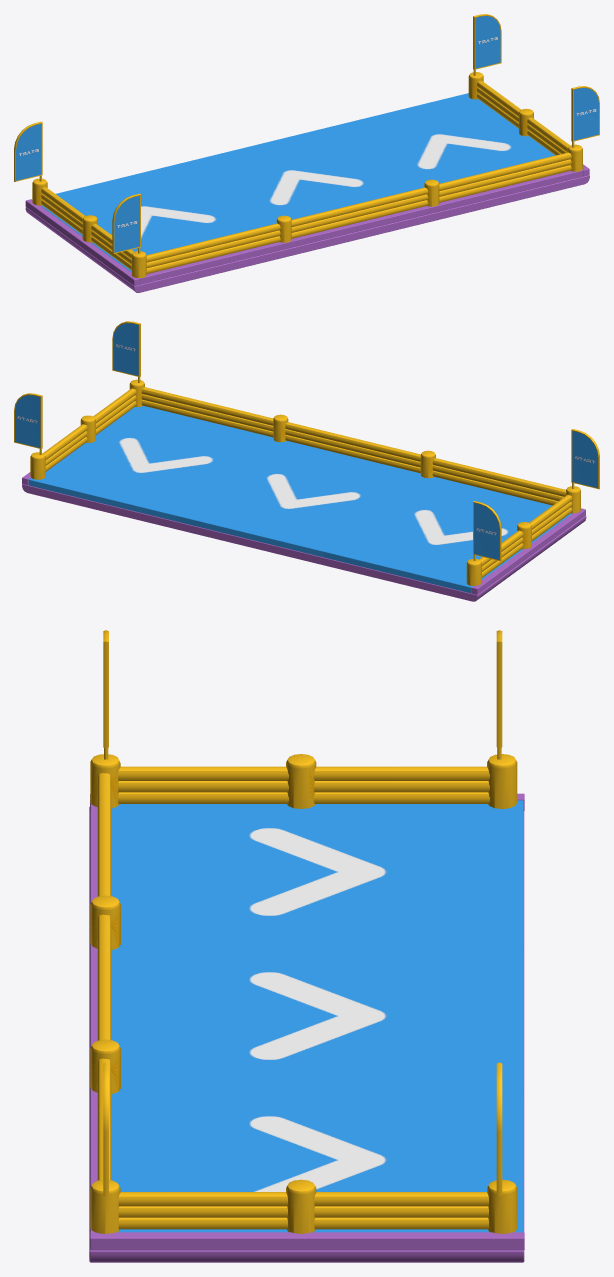
File: PLF0110028.fbx
3 views of the same model, one above another, from view 1: azimuth 30°, elevation 25°; view 2: azimuth 150°, elevation 25°; view 3: azimuth 270°, elevation 25° (orthographic). The views are drawn at different scales.
Visible parts, largest first — view 1: smPLF0110028; view 2: smPLF0110028; view 3: smPLF0110028.
Part boxes in pixels (box(x1,y1,x2,y2)): smPLF0110028: box(14, 14, 599, 292); smPLF0110028: box(14, 321, 599, 601); smPLF0110028: box(89, 630, 524, 1262).
Size of the model in its own units: 1754 by 327 by 679.
Materials: 1 (1 with a texture image).
